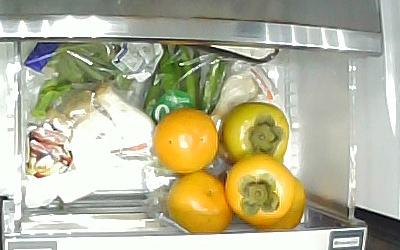persimmon: (226, 154, 293, 226), (153, 108, 218, 174), (167, 171, 233, 235), (223, 101, 289, 162), (261, 174, 304, 231)
